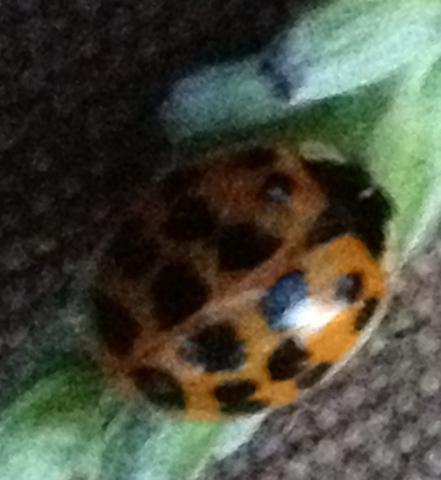ladybug: (81, 135, 401, 425)
